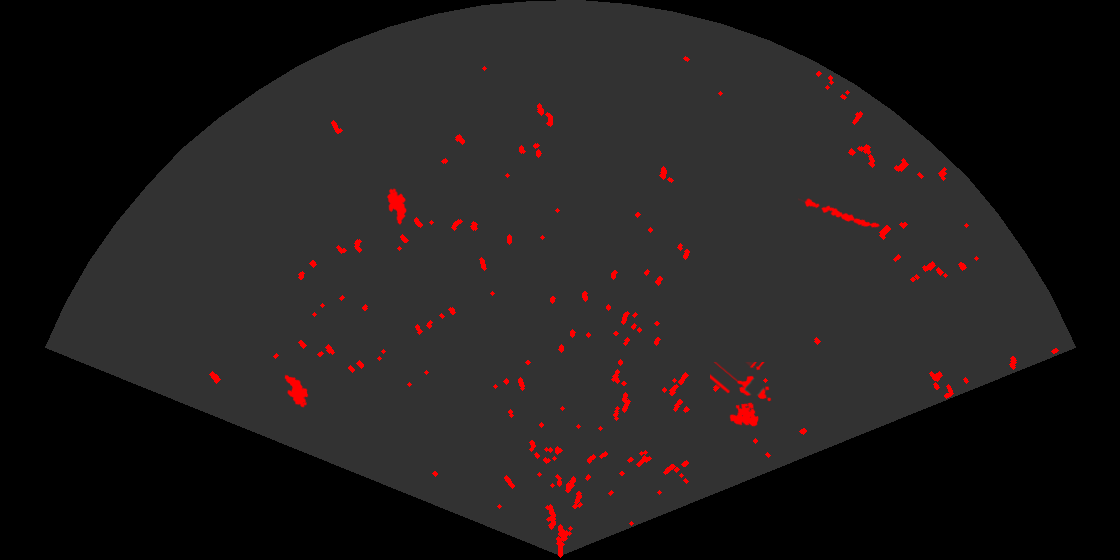AUV: (283, 373, 310, 409), (385, 187, 408, 227)
cage: (710, 362, 773, 428)
chain: (798, 197, 882, 229)
